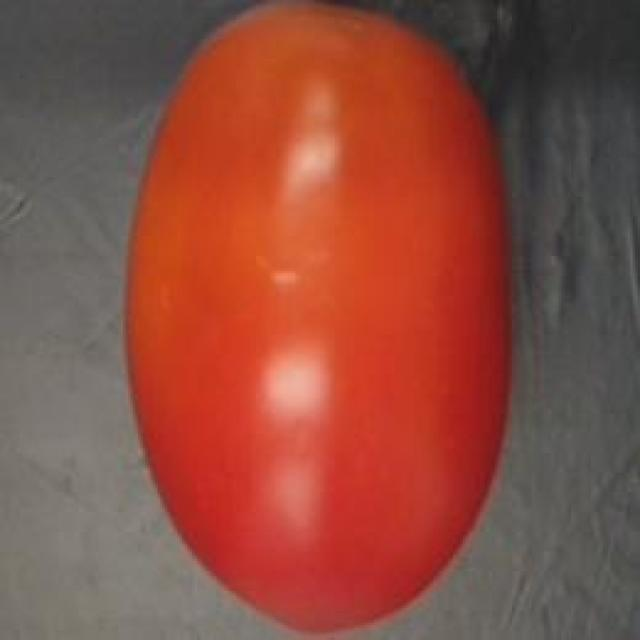ripe tomato: (106, 0, 529, 640)
